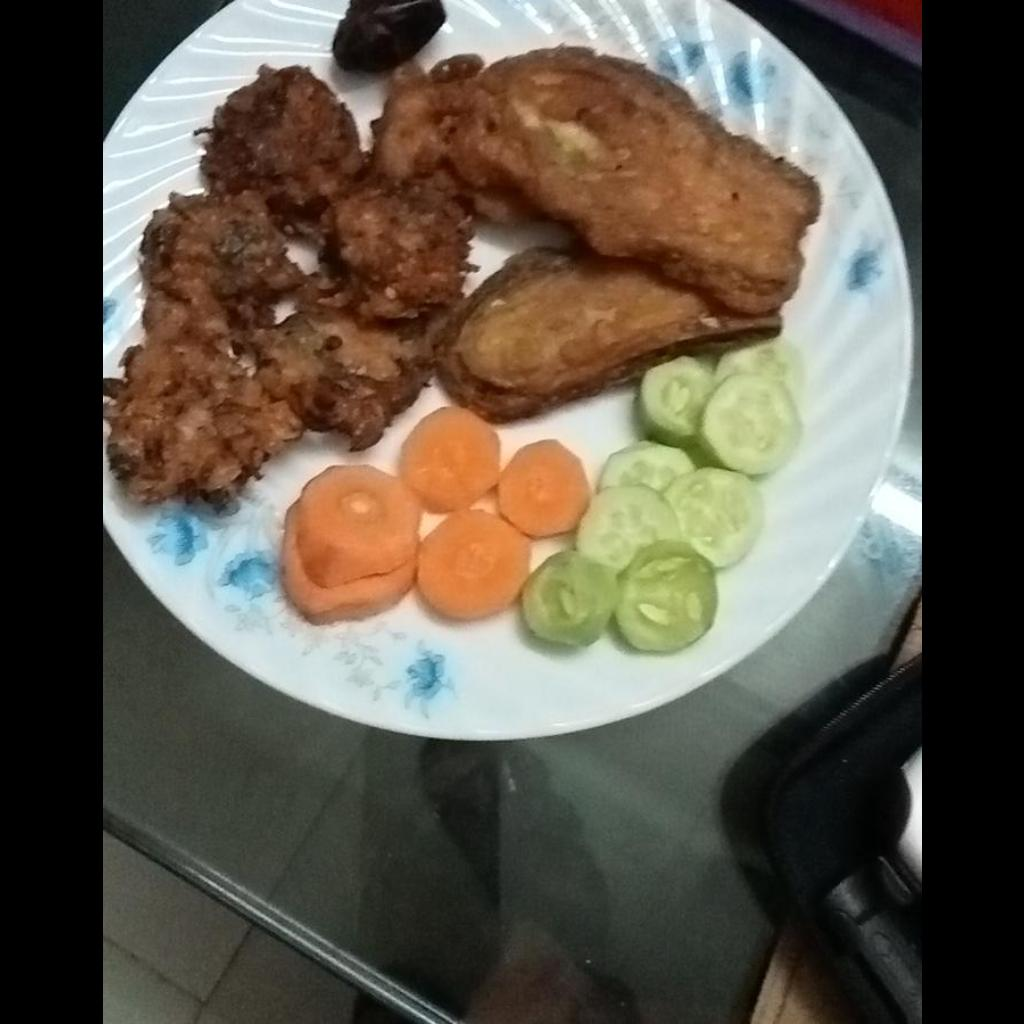beguni: (440, 47, 827, 414)
carrot: (279, 405, 591, 625)
cucumber: (522, 340, 806, 654)
dates: (327, 0, 451, 72)
piyaju: (103, 53, 485, 513)
